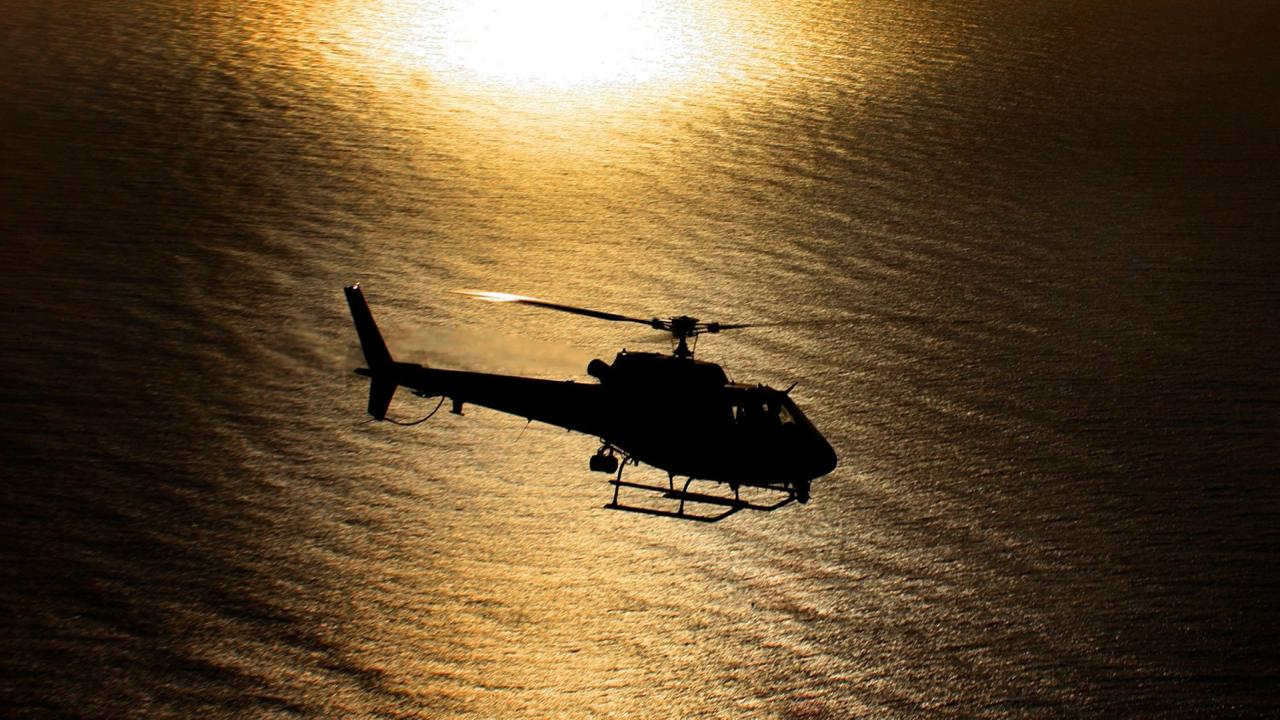Helicopter: (325, 265, 1009, 544)
